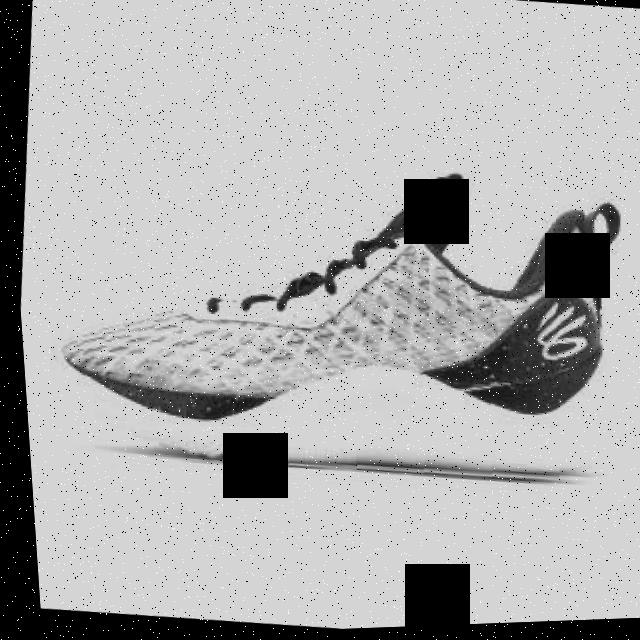shoe: (13, 133, 640, 514)
